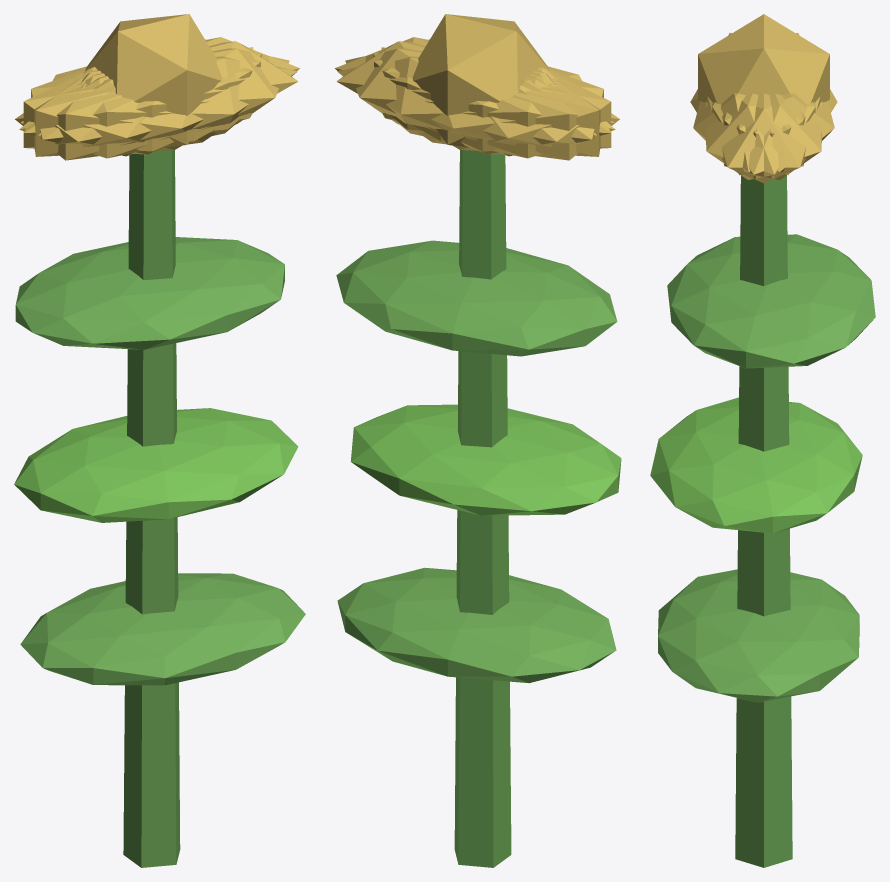
File: clausena-excavata.glb
3 renders of one model, left to right at view 1: azimuth 30°, elevation 25°; view 2: azimuth 150°, elevation 25°; view 3: azimuth 270°, elevation 25°, orthographic.
Parts seen in each view (by area): view 1: stem, leaf1, leaf0, leaf2, center, petal1, petal6, petal2, petal5, petal7, petal0, petal4 (+2 smaller); view 2: stem, leaf2, leaf1, leaf0, center, petal8, petal3, petal7, petal4, petal2, petal0, petal5 (+2 smaller); view 3: stem, leaf2, leaf1, leaf0, center, petal0, petal4, petal5, petal1, petal8.
Boxes of the visible parts, x1,y1,x2,y2 form: stem: (123,150,180,867); leaf1: (14,408,298,522); leaf0: (20,573,305,685); leaf2: (15,237,284,349); center: (85,14,222,147); petal1: (19,56,297,158); petal6: (15,68,216,160); petal2: (34,47,253,156); petal5: (38,48,289,151); petal7: (23,53,261,154); petal0: (85,41,297,141); petal4: (20,37,299,133); stem: (454,150,511,867); leaf2: (336,240,617,356); leaf1: (350,404,621,515); leaf0: (337,567,616,683); center: (412,14,549,147); petal8: (337,56,615,158); petal3: (418,68,619,160); petal7: (381,47,600,156); petal4: (345,48,596,151); petal2: (373,53,611,154); petal0: (336,41,549,141); petal5: (335,37,614,132); stem: (735,175,792,867); leaf2: (667,234,875,368); leaf1: (650,397,862,533); leaf0: (658,569,859,702); center: (698,14,829,103); petal0: (707,93,820,183); petal4: (712,93,822,179); petal5: (705,93,815,179); petal1: (693,93,805,172); petal8: (722,93,834,172).
Size of the model in its own units: 0.1452 by 0.4222 by 0.1047.
